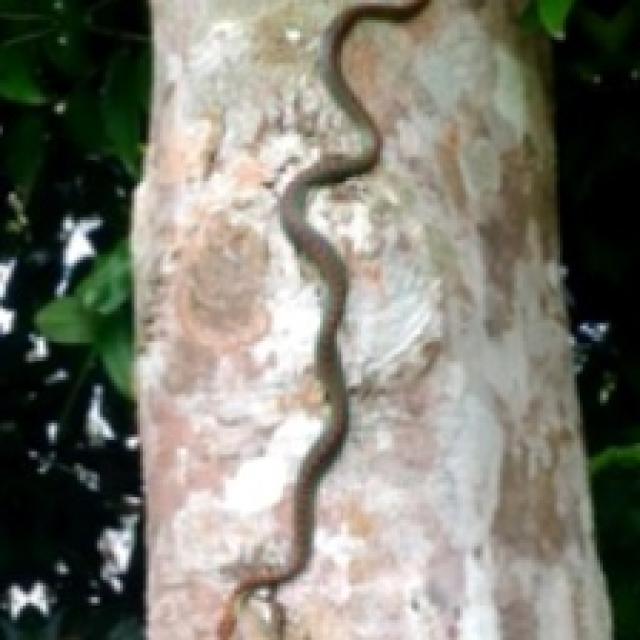paradise tree snake: (217, 0, 426, 637)
